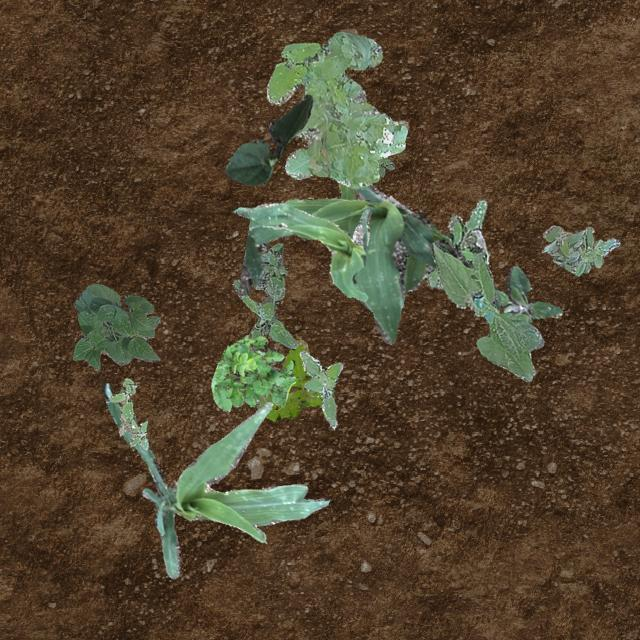crop: (100, 382, 330, 578), (236, 182, 499, 344), (428, 242, 544, 381), (232, 202, 371, 300), (224, 94, 312, 184), (72, 282, 160, 370), (338, 182, 356, 200)
weed: (266, 31, 406, 188), (424, 198, 488, 308), (232, 242, 296, 348), (210, 334, 296, 412), (256, 338, 336, 420), (494, 264, 562, 322), (542, 224, 618, 274), (298, 350, 342, 428), (110, 376, 148, 448), (376, 156, 394, 176)
